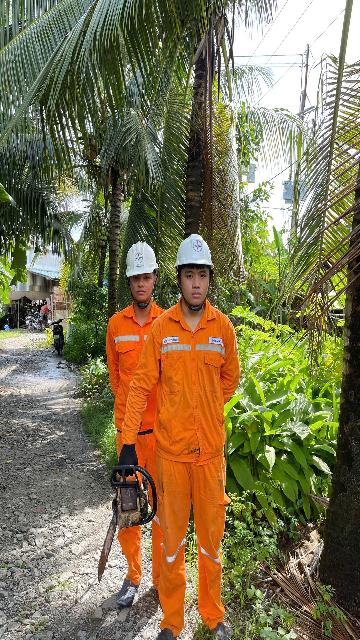gloves: (94, 425, 148, 480)
helmet: (107, 235, 164, 283), (170, 228, 224, 277)
shoes: (113, 566, 144, 616), (206, 616, 265, 640), (148, 619, 192, 640)
